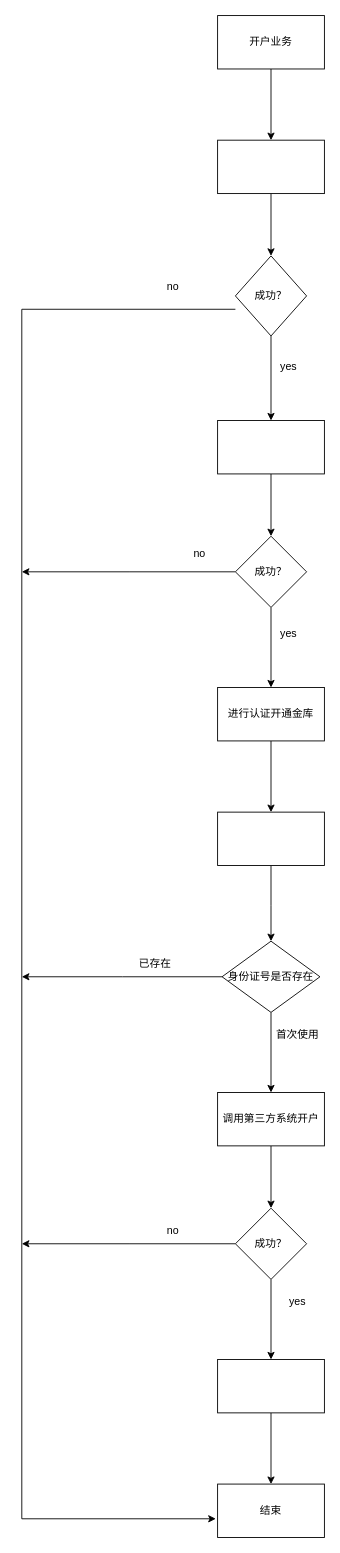
The diagram is 340 pixels wide and 1553 high, and some of its shapes have lost their labels. Each missing label, with the centre of its shape:
填写姓名和身份证号: point 270,838
注册账号: point 270,166
登录账号: point 270,447
返回“UserRegister ok”: point 270,1386
